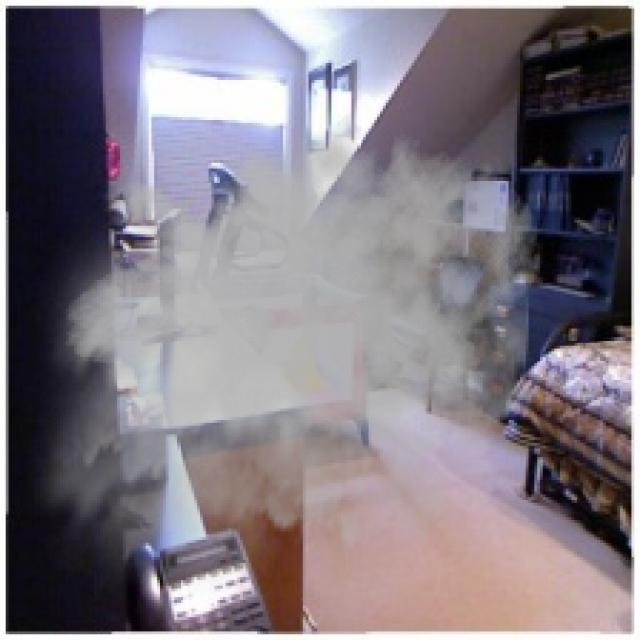smoke: (17, 97, 540, 612)
